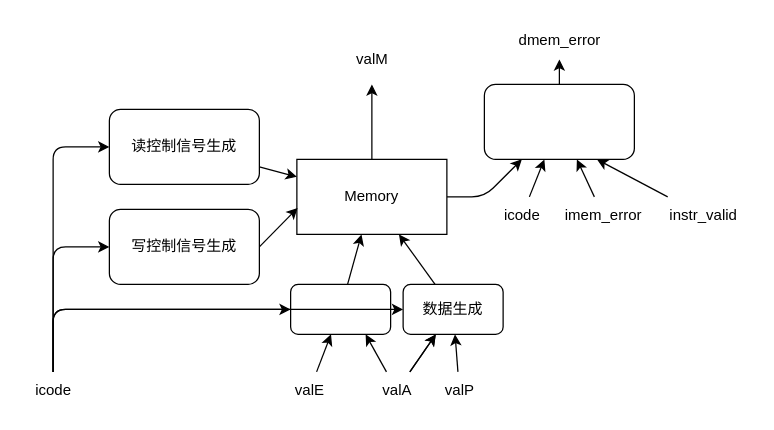
This 774x430 diagram has some shape labels left out. Each missing label, with the centre of its shape:
Stat状态码: the point at 558,121
地址生成: the point at 340,308
